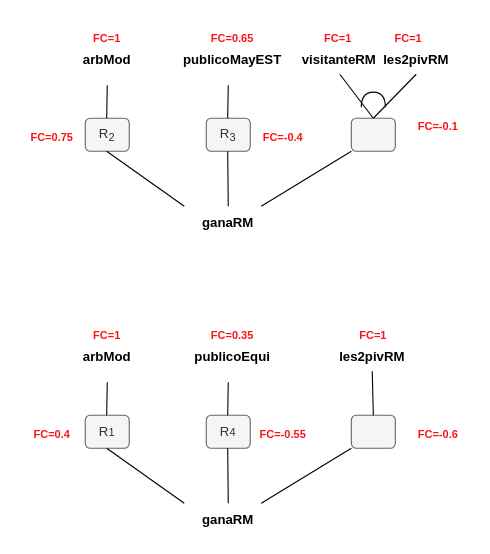
This 490x554 diagram has some shape labels left out. The shapes that lost their labels are listed below. From the top down, each one's box as (x1, y1, x2, y2) in pixels, then its label:
(350, 117, 395, 151): R 5
(350, 414, 395, 448): R 6
